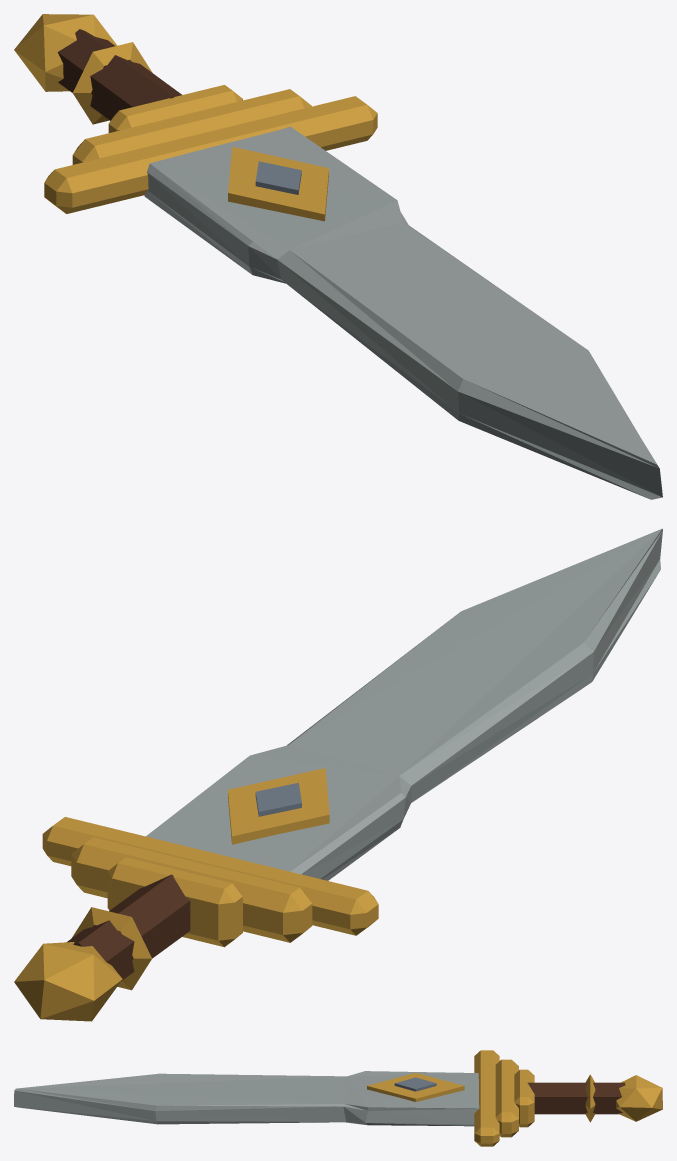
File: Item_AncientEdge.glb
The picture shows the model from 3 angles, top to bottom: view 1: azimuth 30°, elevation 25°; view 2: azimuth 150°, elevation 25°; view 3: azimuth 270°, elevation 25°; orthographic projection. The views are drawn at different scales.
Visible parts, largest first — view 1: Item_AncientEdge; view 2: Item_AncientEdge; view 3: Item_AncientEdge.
Part boxes in pixels (x1=…): Item_AncientEdge: x1=14, y1=14, x2=662, y2=499; Item_AncientEdge: x1=14, y1=528, x2=662, y2=1021; Item_AncientEdge: x1=14, y1=1050, x2=662, y2=1146.
Size of the model in its own units: 0.28 by 0.0606 by 0.9293.
